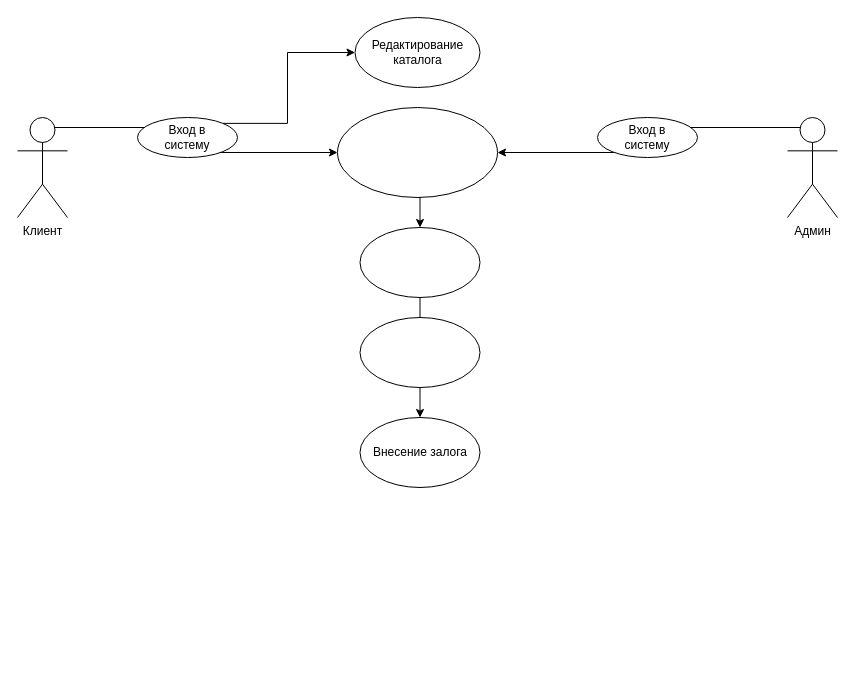
The diagram is 855 pixels wide and 683 high, and some of its shapes have lost their labels. Here are the shapes that lost their labels. From the top down, the centre of each, then its label:
[417,152]: Просмотр каталога
[419,262]: Выбор видеокассеты
[419,352]: Расчёт стоимости
